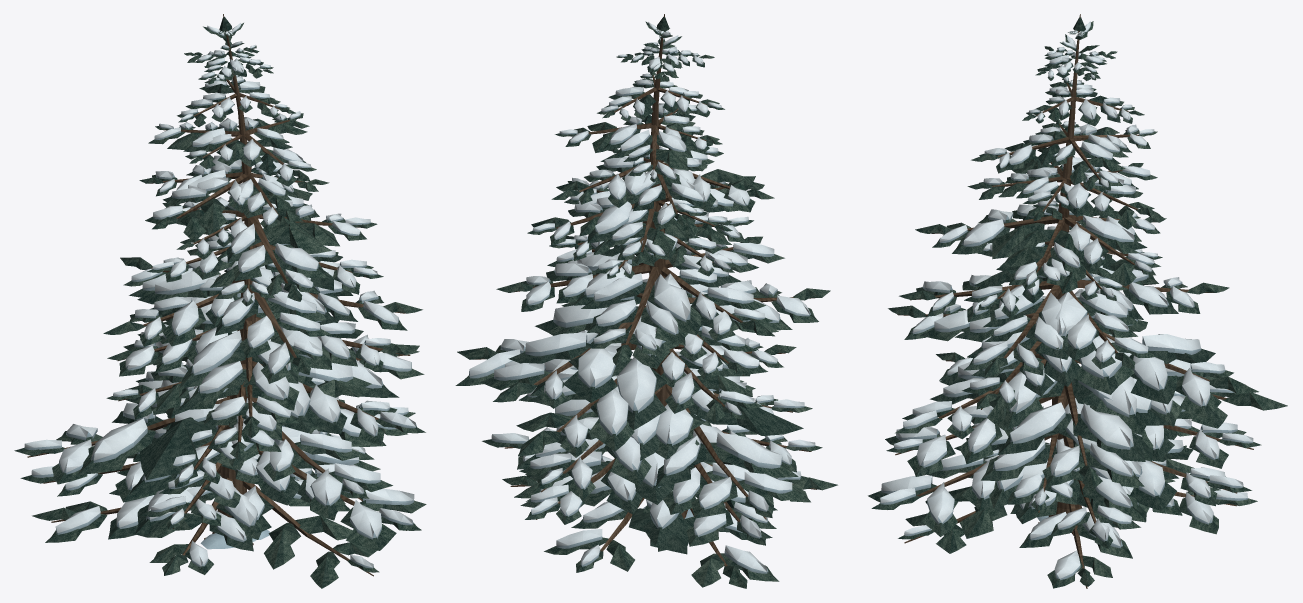
The model's file is 30_Heavy_Snow_Fir.obj.
3 views of the same model, side by side, from view 1: azimuth 30°, elevation 25°; view 2: azimuth 150°, elevation 25°; view 3: azimuth 270°, elevation 25° (orthographic). The views are drawn at different scales.
Parts seen in each view (by area): view 1: 30_Heavy_Snow_Fir; view 2: 30_Heavy_Snow_Fir; view 3: 30_Heavy_Snow_Fir.
Part boxes in pixels (<box>): 30_Heavy_Snow_Fir: <box>14,14,426,588</box>; 30_Heavy_Snow_Fir: <box>455,14,837,588</box>; 30_Heavy_Snow_Fir: <box>868,14,1287,588</box>.
Size of the model in its own units: 3.59 by 4.91 by 3.69.
5 materials, 5 textured.
